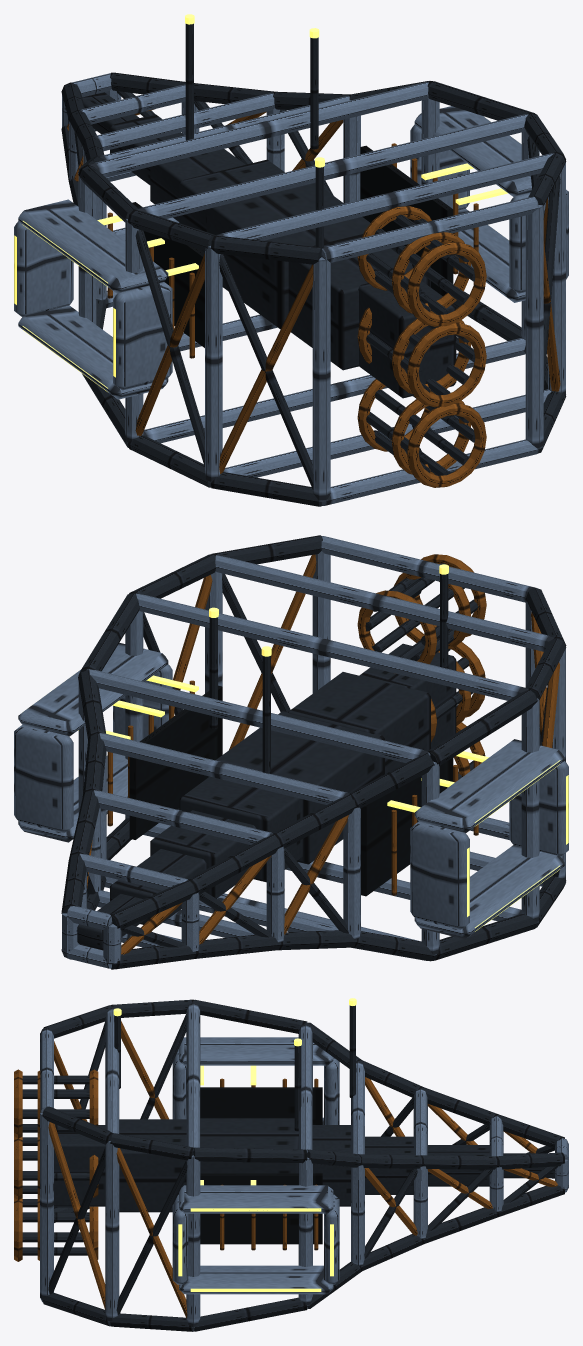
The model's file is colossal-etapa-1.glb.
3 views of the same model, one above another, from view 1: azimuth 30°, elevation 25°; view 2: azimuth 150°, elevation 25°; view 3: azimuth 270°, elevation 25° (orthographic). The views are drawn at different scales.
Visible parts, largest first — view 1: Costela transversal, Longarina longitudinal, Treliça diagonal, Parede interna da baia, Baliza longitudinal do hangar; view 2: Costela transversal, Longarina longitudinal, Treliça diagonal, Parede interna da baia, Baliza longitudinal do hangar; view 3: Longarina longitudinal, Costela transversal, Treliça diagonal, Parede interna da baia, Baliza longitudinal do hangar.
Boxes of the visible parts, x1=… form: Costela transversal: x1=14, y1=73, x2=568, y2=505; Longarina longitudinal: x1=61, y1=23, x2=566, y2=506; Treliça diagonal: x1=66, y1=109, x2=560, y2=487; Parede interna da baia: x1=132, y1=145, x2=453, y2=347; Baliza longitudinal do hangar: x1=14, y1=14, x2=507, y2=391; Costela transversal: x1=14, y1=536, x2=568, y2=968; Longarina longitudinal: x1=61, y1=535, x2=566, y2=969; Treliça diagonal: x1=87, y1=554, x2=559, y2=954; Parede interna da baia: x1=129, y1=685, x2=453, y2=896; Baliza longitudinal do hangar: x1=78, y1=564, x2=568, y2=931; Longarina longitudinal: x1=22, y1=999, x2=564, y2=1331; Costela transversal: x1=40, y1=1001, x2=568, y2=1330; Treliça diagonal: x1=14, y1=1021, x2=557, y2=1318; Parede interna da baia: x1=200, y1=1087, x2=322, y2=1244; Baliza longitudinal do hangar: x1=113, y1=998, x2=356, y2=1291.
Bounding box in the file's own units: 153 × 106 × 212.
5 materials, 4 textured.
